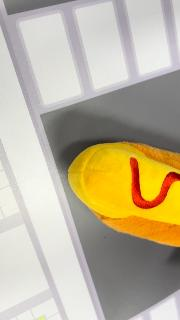hotdog: (67, 140, 179, 248)
